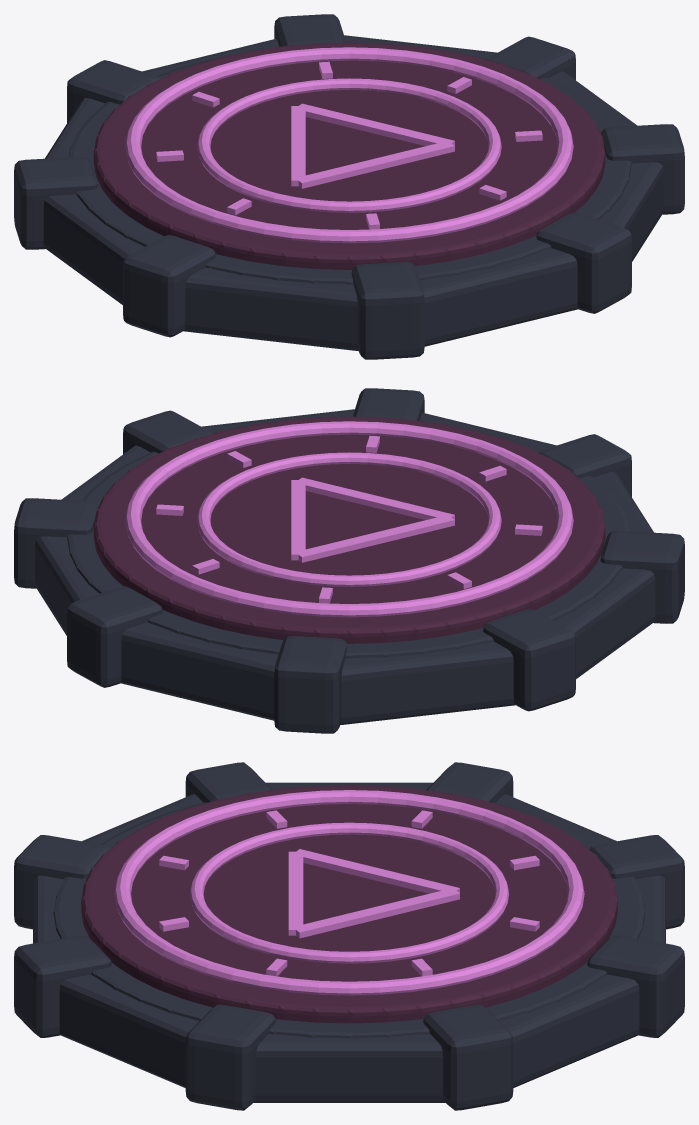
The model's file is PinkPlate.glb.
3 views of the same model, one above another, from view 1: azimuth 30°, elevation 25°; view 2: azimuth 150°, elevation 25°; view 3: azimuth 270°, elevation 25° (orthographic). The views are drawn at different scales.
Visible parts, largest first — view 1: PinkPlate.001; view 2: PinkPlate.001; view 3: PinkPlate.001.
Boxes of the visible parts, left/top/right/bottom form: PinkPlate.001: left=14, top=14, right=684, bottom=359; PinkPlate.001: left=14, top=388, right=684, bottom=733; PinkPlate.001: left=14, top=762, right=684, bottom=1110.
Size of the model in its own units: 0.7248 by 0.1016 by 0.7248.
